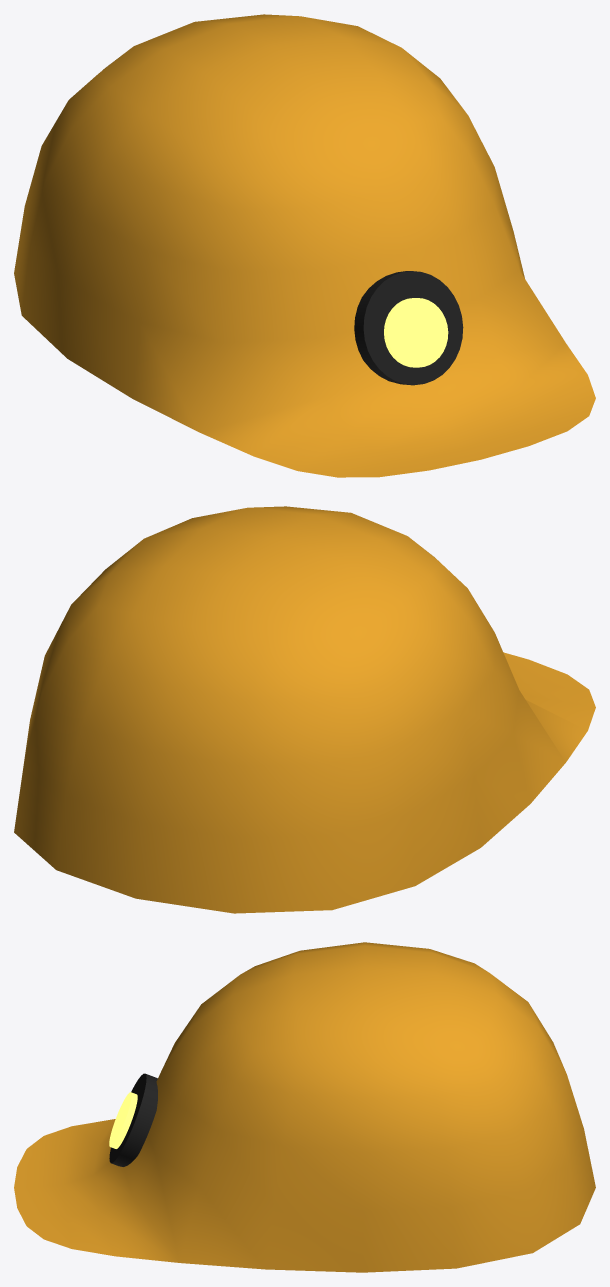
The model's file is Het for sketchfab gorilla tga fangame .fbx.
3 views of the same model, one above another, from view 1: azimuth 30°, elevation 25°; view 2: azimuth 150°, elevation 25°; view 3: azimuth 270°, elevation 25° (orthographic). The views are drawn at different scales.
Visible parts, largest first — view 1: Cube, Cylinder, Cylinder.001; view 2: Cube; view 3: Cube, Cylinder, Cylinder.001.
Part boxes in pixels (x1,y1,x2,y2): Cube: (14, 14, 595, 477); Cylinder: (354, 271, 463, 385); Cylinder.001: (384, 298, 448, 367); Cube: (14, 506, 595, 913); Cube: (14, 942, 595, 1272); Cylinder: (109, 1073, 157, 1166); Cylinder.001: (109, 1092, 137, 1148).
Size of the model in its own units: 160 by 96.18 by 231.
